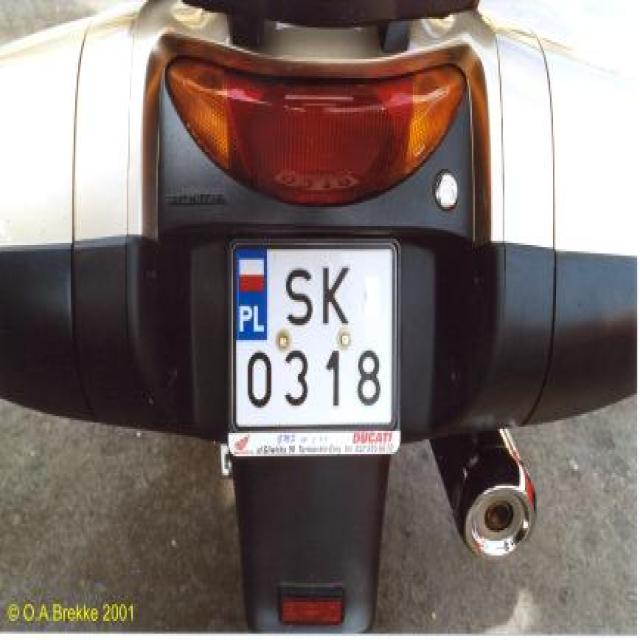pl_license_plate: (231, 245, 391, 420)
